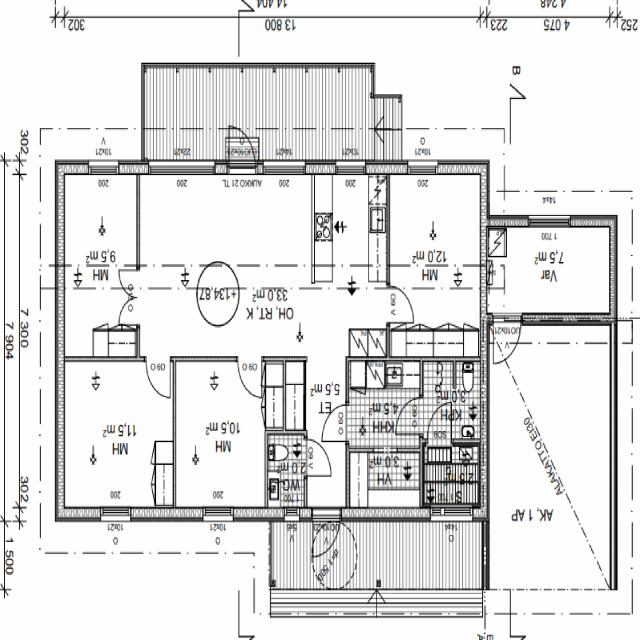door: (313, 508, 341, 564), (229, 118, 256, 175), (493, 312, 521, 362), (304, 438, 332, 476), (238, 356, 262, 399), (146, 356, 170, 399), (428, 402, 452, 445), (395, 397, 423, 433), (322, 405, 349, 441), (387, 288, 412, 322), (118, 269, 140, 297), (118, 297, 140, 324)
